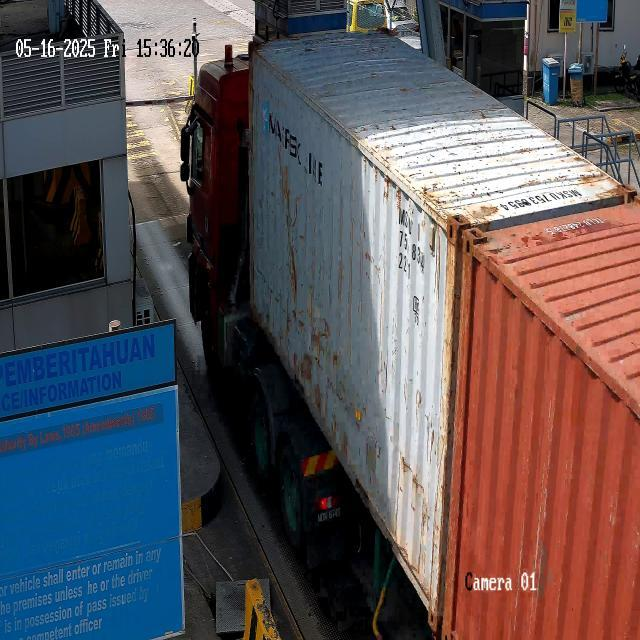ISO: (393, 250, 418, 286)
container_number: (396, 202, 436, 276)
